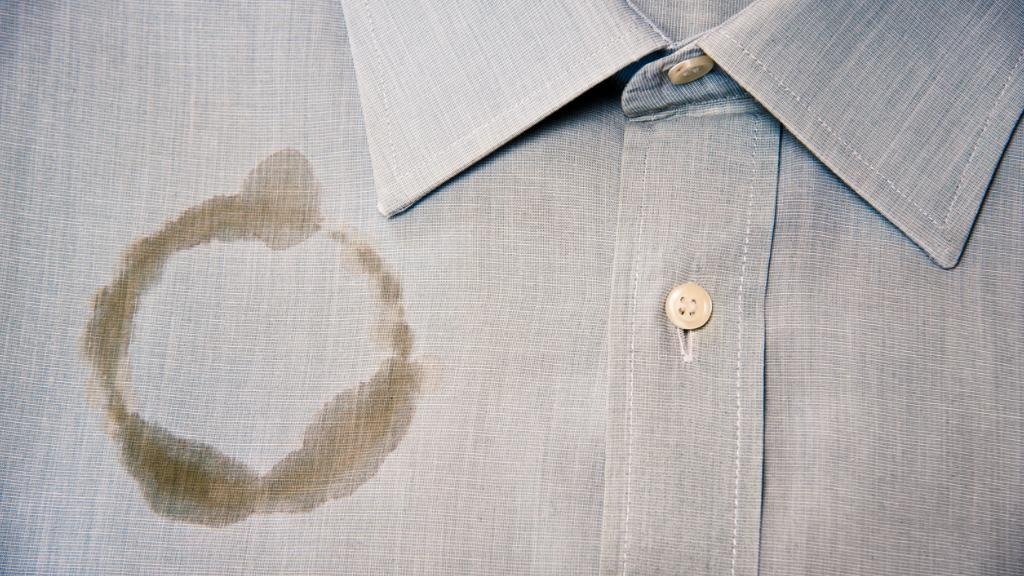gun: (83, 147, 412, 531)
